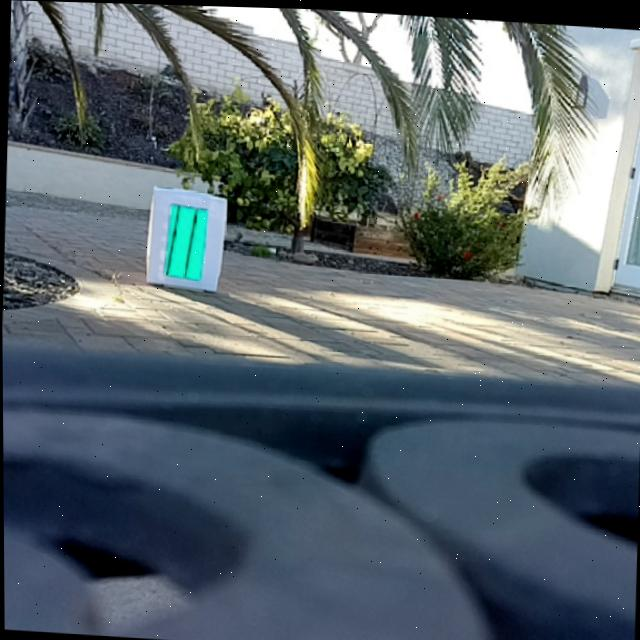led: (161, 198, 209, 281)
